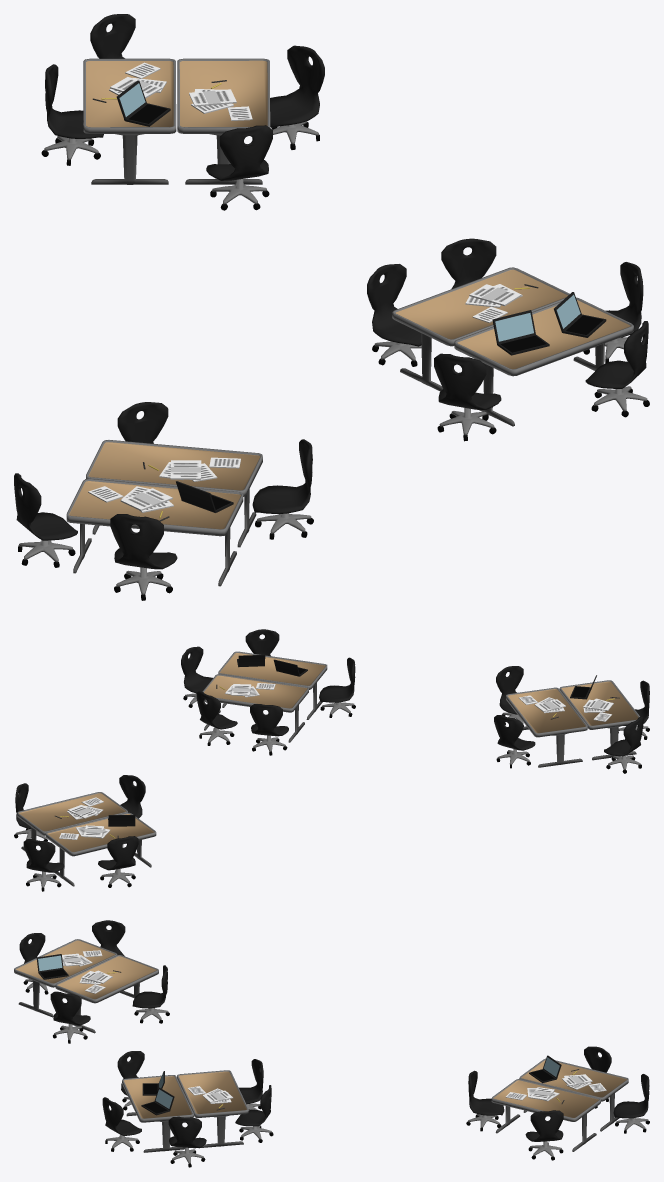
File: d-roomcomp-r6-studentClub-in.glb
The picture shows the model from 3 angles, top to bottom: view 1: azimuth 30°, elevation 25°; view 2: azimuth 150°, elevation 25°; view 3: azimuth 270°, elevation 25°; orthographic projection. The views are drawn at different scales.
Visible parts, largest first — view 1: officeDesk.024, officeDesk.025, officeDesk.026, officeDesk.021, officeDesk.023, officeDesk.022, officeChair.048, officeChair.055, officeChair.047, officeChair.054, officeChair.043, officeChair.046 (+16 smaller); view 2: officeDesk.021, officeDesk.024, officeDesk.026, officeDesk.022, officeDesk.025, officeDesk.023, officeChair.043, officeChair.053, officeChair.052, officeChair.050, officeChair.044, officeChair.049 (+12 smaller); view 3: officeDesk.025, officeDesk.024, officeDesk.021, officeDesk.023, officeDesk.022, officeDesk.026, officeChair.045, officeChair.054, officeChair.051, officeChair.046, officeChair.053, officeChair.055 (+15 smaller).
Part boxes in pixels (left/top/right/bottom): officeDesk.024: left=392, top=267, right=569, bottom=391; officeDesk.025: left=177, top=58, right=270, bottom=184; officeDesk.026: left=83, top=58, right=176, bottom=184; officeDesk.021: left=86, top=440, right=262, bottom=547; officeDesk.023: left=454, top=297, right=633, bottom=426; officeDesk.022: left=66, top=478, right=243, bottom=586; officeChair.048: left=110, top=514, right=177, bottom=600; officeChair.055: left=206, top=125, right=272, bottom=210; officeChair.047: left=434, top=353, right=501, bottom=441; officeChair.054: left=270, top=45, right=324, bottom=149; officeChair.043: left=367, top=264, right=431, bottom=366; officeChair.046: left=585, top=321, right=649, bottom=417; officeDesk.021: left=506, top=687, right=587, bottom=767; officeDesk.024: left=202, top=674, right=308, bottom=742; officeDesk.026: left=45, top=812, right=156, bottom=886; officeDesk.022: left=559, top=680, right=639, bottom=760; officeDesk.025: left=17, top=792, right=127, bottom=851; officeDesk.023: left=218, top=651, right=327, bottom=719; officeChair.043: left=250, top=704, right=288, bottom=755; officeChair.053: left=23, top=839, right=64, bottom=891; officeChair.052: left=98, top=836, right=138, bottom=887; officeChair.050: left=494, top=715, right=535, bottom=768; officeChair.044: left=196, top=691, right=237, bottom=745; officeChair.049: left=604, top=716, right=643, bottom=773; officeDesk.025: left=491, top=1079, right=600, bottom=1151; officeDesk.024: left=177, top=1070, right=248, bottom=1148; officeDesk.021: left=55, top=955, right=158, bottom=1033; officeDesk.023: left=122, top=1075, right=193, bottom=1152; officeDesk.022: left=14, top=939, right=117, bottom=1017; officeDesk.026: left=519, top=1058, right=628, bottom=1131; officeChair.045: left=168, top=1116, right=206, bottom=1167; officeChair.054: left=525, top=1110, right=563, bottom=1160; officeChair.051: left=50, top=991, right=90, bottom=1043; officeChair.046: left=102, top=1097, right=141, bottom=1151; officeChair.053: left=613, top=1074, right=649, bottom=1133; officeChair.055: left=466, top=1070, right=504, bottom=1131.
Bounding box in the file's own units: 11.17 × 1.27 × 15.01.
2 materials, 2 textured.
